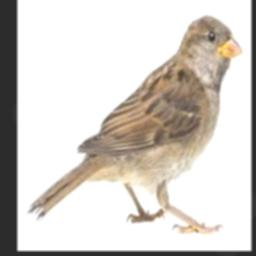Sparrow: (27, 16, 242, 233)
